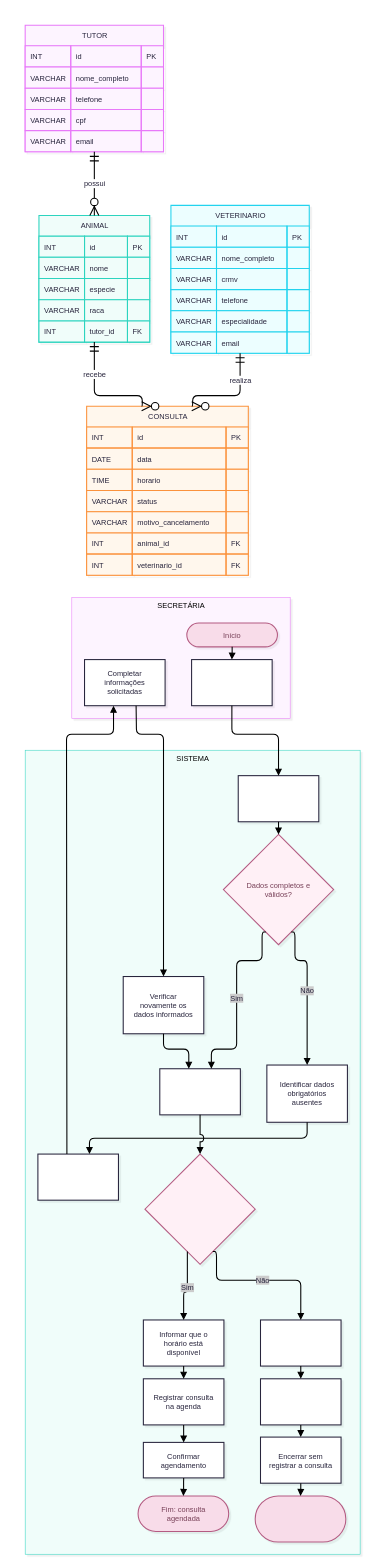
The diagram is 372 pixels wide and 1566 high, and some of its shapes have lost their labels. The shapes that lost their labels are listed below. From the top down, each one's centre as x and y in pixels, then its label:
At (233,683): "Informar animal, veterinário, data e horário".
At (279,799): "Verificar dados obrigatórios e validade".
At (201,1092): "Verificar disponibilidade do veterinário".
At (79,1178): "Informar quais dados precisam ser preenchidos".
At (201,1210): "Horário disponível?".
At (301,1343): "Identificar conflito de horário".
At (301,1402): "Informar impossibilidade de agendamento".
At (301,1519): "Fim: agendamento não realizado".
